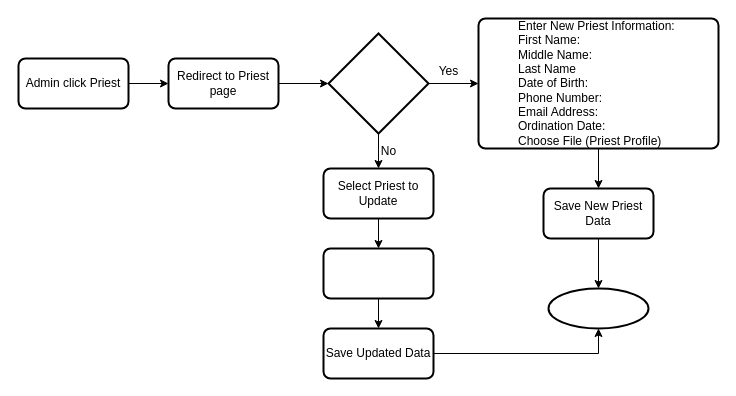
This 736x396 diagram has some shape labels left out. The box of each missing label's shape, as (x1, y1, x2, y2) in pixels:
Add New Priest?: (327, 32, 429, 134)
End: (547, 287, 649, 329)
Update Priest Data: (322, 247, 434, 299)
